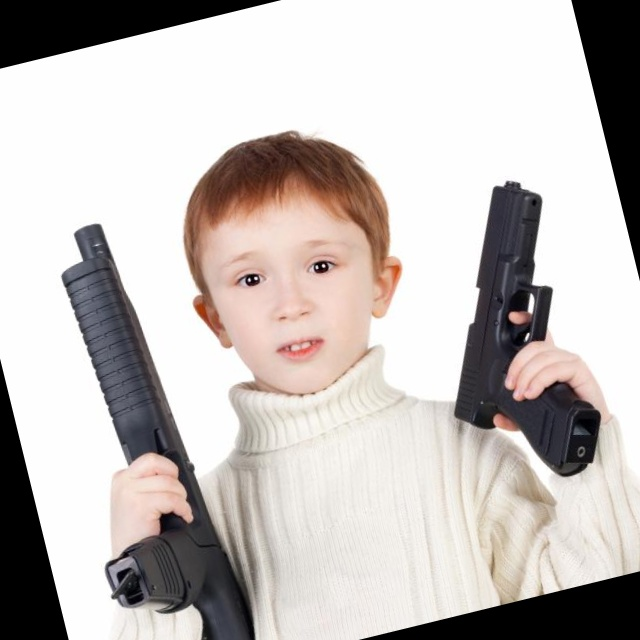gun: (20, 190, 274, 640), (391, 158, 637, 507)
